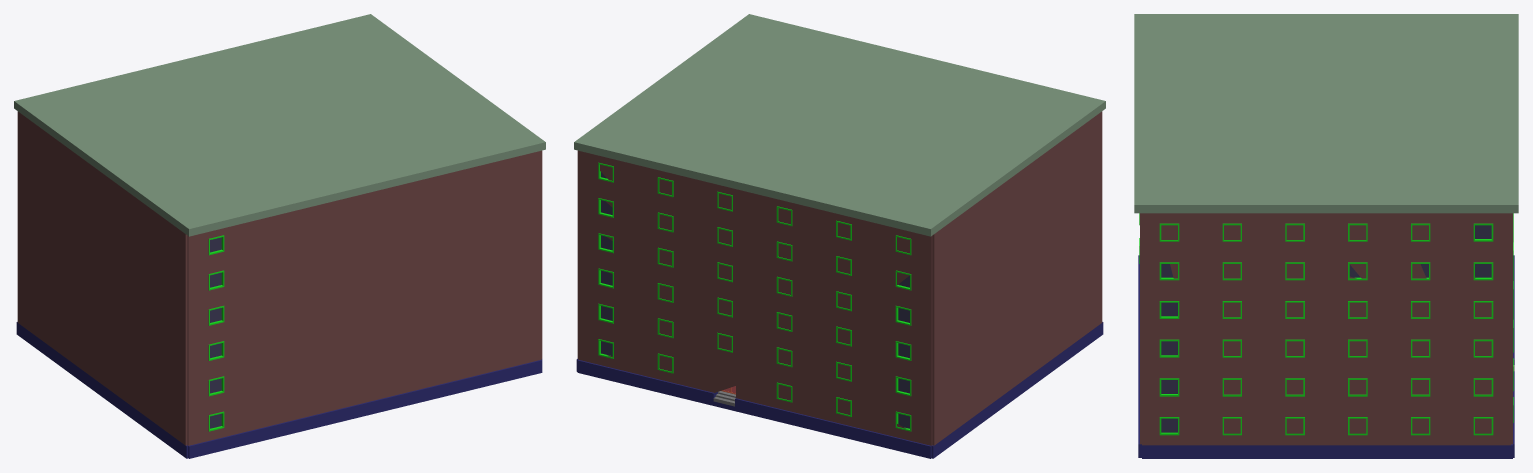
The model's file is BCC30_F06_01.fbx.
The picture shows the model from 3 angles, left to right: view 1: azimuth 30°, elevation 25°; view 2: azimuth 150°, elevation 25°; view 3: azimuth 270°, elevation 25°; orthographic projection. The views are drawn at different scales.
Parts seen in each view (by area): view 1: BCC30_F06_01; view 2: BCC30_F06_01; view 3: BCC30_F06_01.
Boxes of the visible parts, <box> form: BCC30_F06_01: <box>14,14,545,458</box>; BCC30_F06_01: <box>574,14,1105,458</box>; BCC30_F06_01: <box>1134,14,1518,458</box>.
Size of the model in its own units: 3005 by 1860 by 2550.
